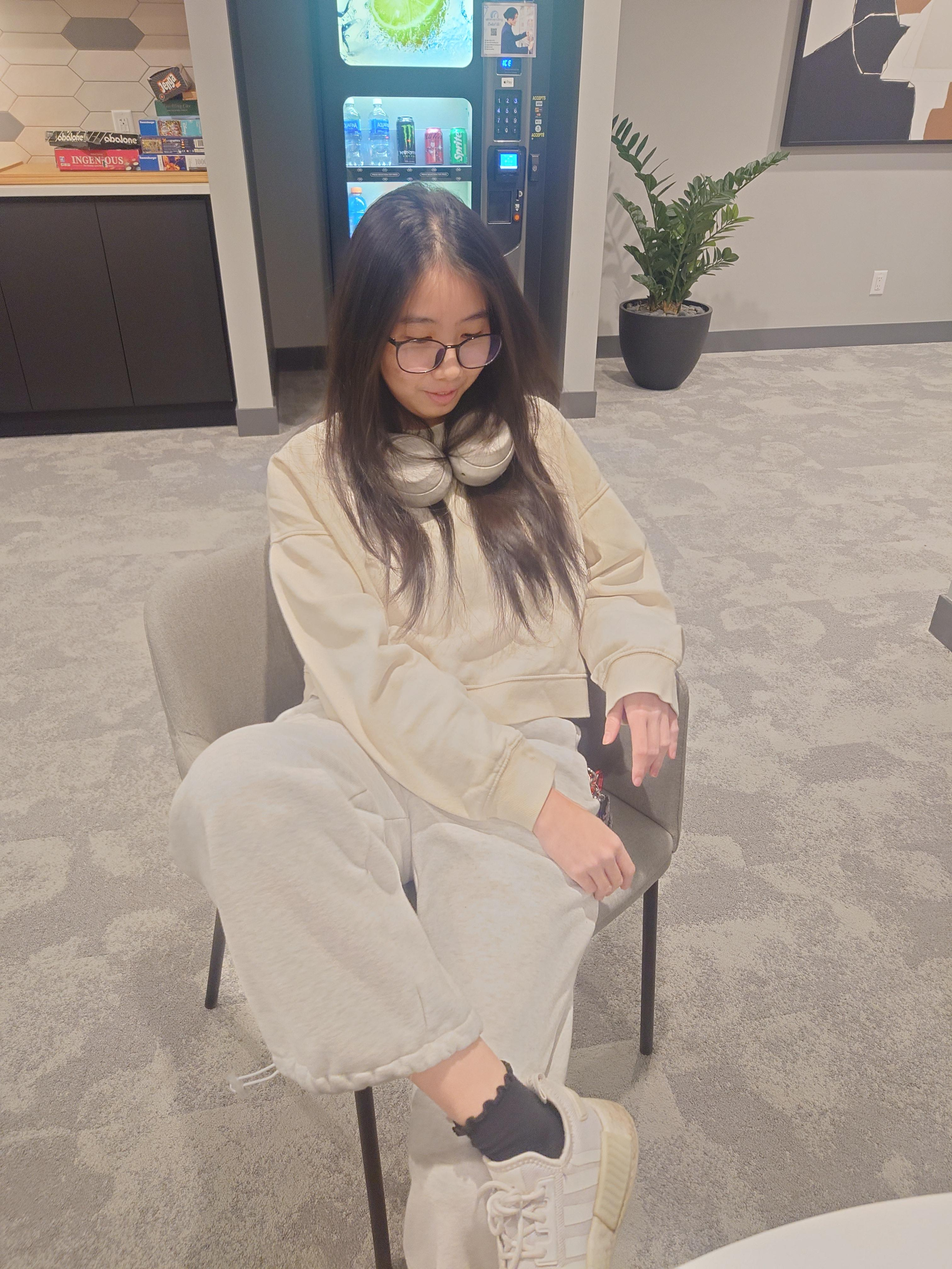BadPosture: (168, 184, 681, 1269)
